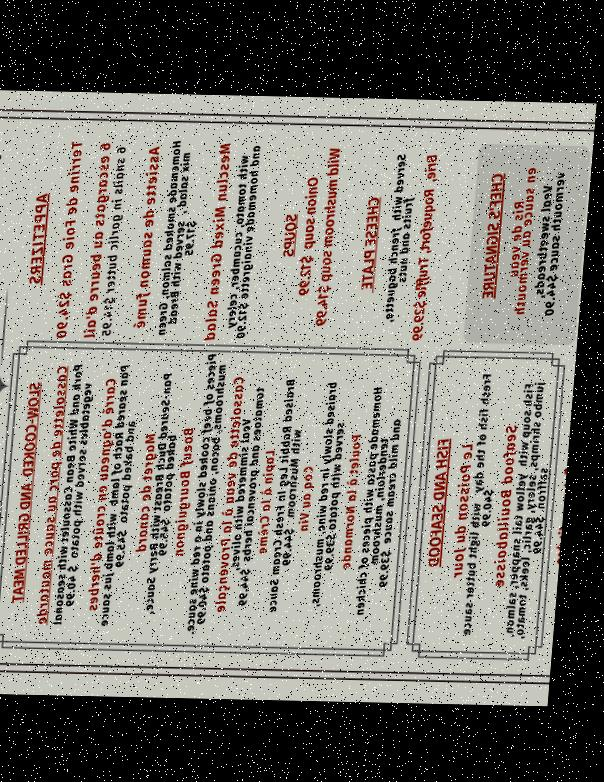Menu-Items: (350, 144, 462, 339), (34, 354, 106, 635), (473, 151, 583, 330), (499, 360, 566, 643), (170, 362, 239, 636), (344, 377, 418, 628), (271, 137, 359, 334), (257, 364, 319, 640), (87, 363, 151, 629), (454, 362, 513, 643), (133, 137, 215, 334), (135, 358, 193, 629), (300, 370, 361, 614), (220, 364, 275, 628), (202, 137, 272, 341), (80, 138, 139, 340), (53, 140, 91, 337)
